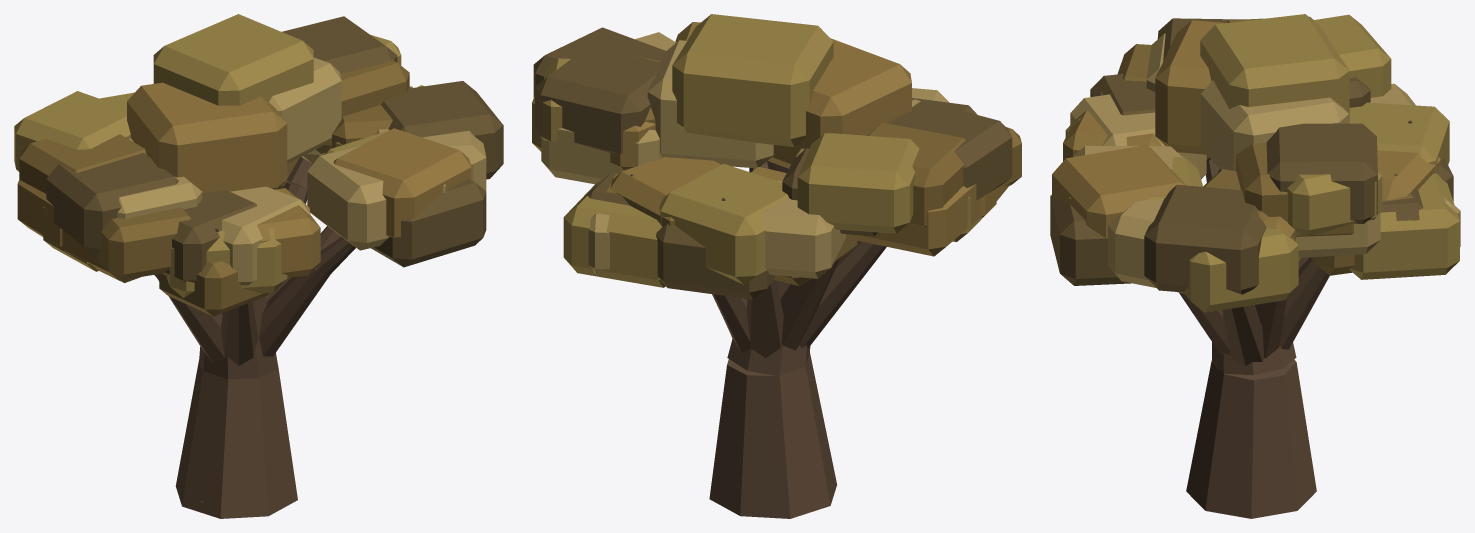
File: apple_ancient_autumn_2.glb
The picture shows the model from 3 angles, left to right: view 1: azimuth 30°, elevation 25°; view 2: azimuth 150°, elevation 25°; view 3: azimuth 270°, elevation 25°; orthographic projection. The views are drawn at different scales.
Visible parts, largest first — view 1: apple_ancient_autumn_2; view 2: apple_ancient_autumn_2; view 3: apple_ancient_autumn_2.
Boxes of the visible parts, x1=… form: apple_ancient_autumn_2: x1=14, y1=14, x2=503, y2=518; apple_ancient_autumn_2: x1=532, y1=14, x2=1021, y2=518; apple_ancient_autumn_2: x1=1050, y1=14, x2=1460, y2=518.
Size of the model in its own units: 18.41 by 18 by 14.74.
